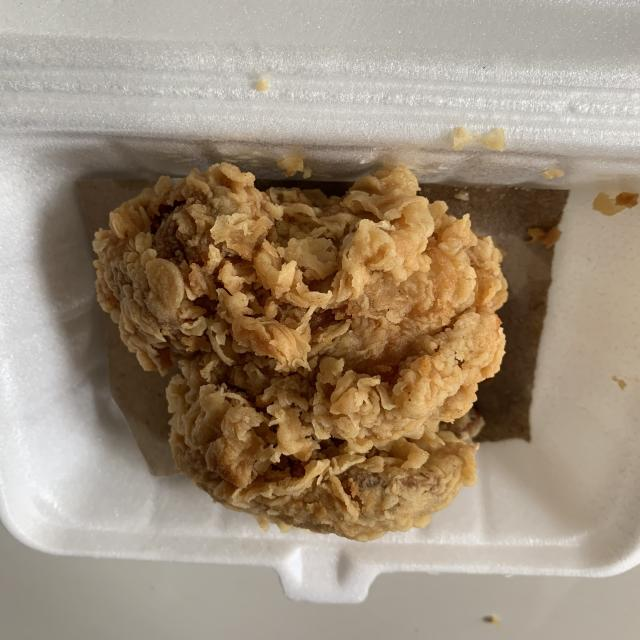Frango: (87, 162, 504, 542)
